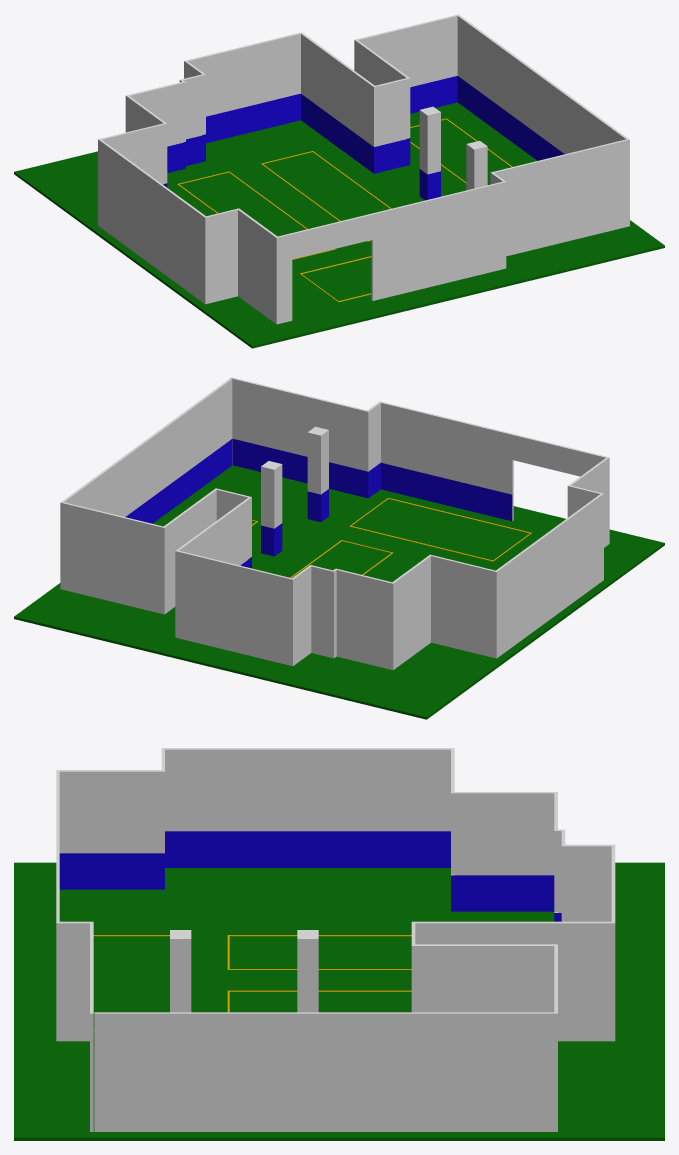
File: floorV3.glb
3 views of the same model, one above another, from view 1: azimuth 30°, elevation 25°; view 2: azimuth 150°, elevation 25°; view 3: azimuth 270°, elevation 25° (orthographic). The views are drawn at different scales.
Parts seen in each view (by area): view 1: Cube, Plane, Cube.007, Cube.005; view 2: Cube, Plane, Cube.005, Cube.007, Cube.004; view 3: Cube, Plane, Cube.007, Cube.005, Cube.002.
Part boxes in pixels (left/top/right/bottom): Cube: left=98, top=14, right=629, bottom=324; Plane: left=14, top=102, right=664, bottom=348; Cube.007: left=419, top=106, right=440, bottom=200; Cube.005: left=466, top=140, right=487, bottom=190; Cube: left=60, top=377, right=609, bottom=670; Plane: left=14, top=465, right=664, bottom=719; Cube.005: left=307, top=426, right=328, bottom=522; Cube.007: left=261, top=461, right=282, bottom=556; Cube.004: left=349, top=498, right=531, bottom=561; Cube: left=56, top=748, right=615, bottom=1131; Plane: left=14, top=862, right=664, bottom=1140; Cube.007: left=297, top=930, right=318, bottom=1012; Cube.005: left=170, top=930, right=191, bottom=1012; Cube.002: left=227, top=935, right=411, bottom=969.
Bounding box in the file's own units: 36.45 × 7.56 × 36.45.
